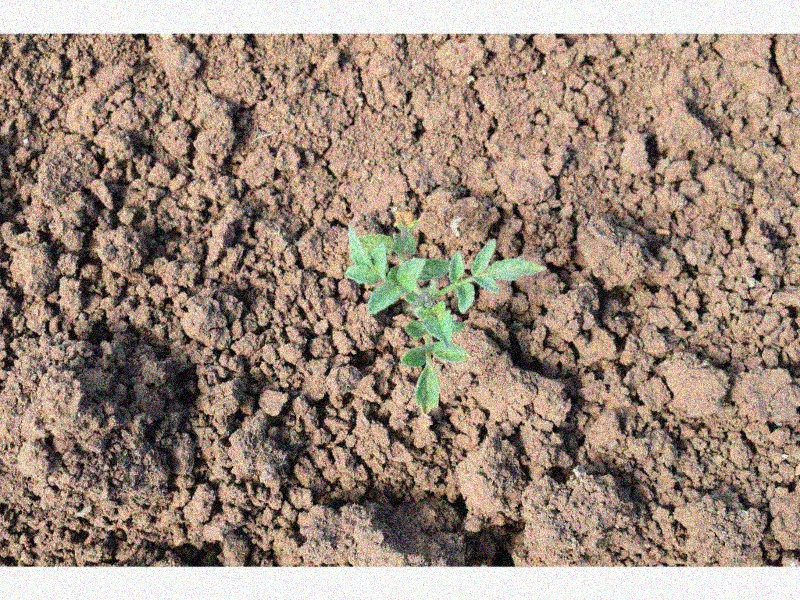tomato: (345, 222, 546, 413)
